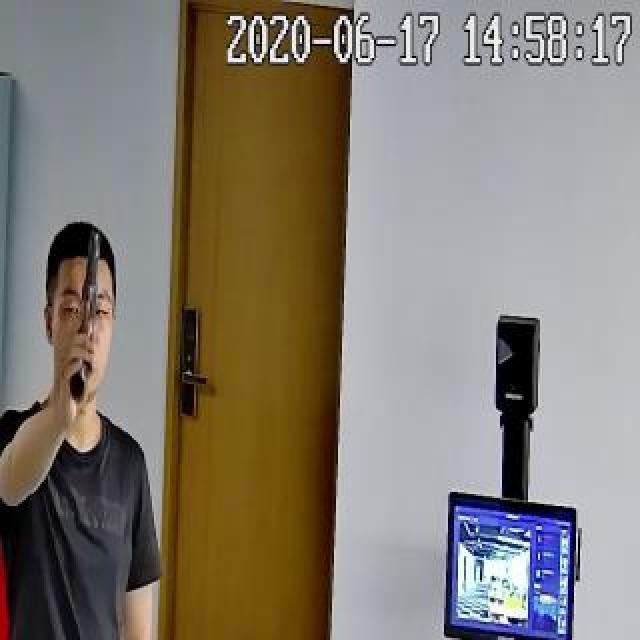Guns: (54, 209, 115, 434)
